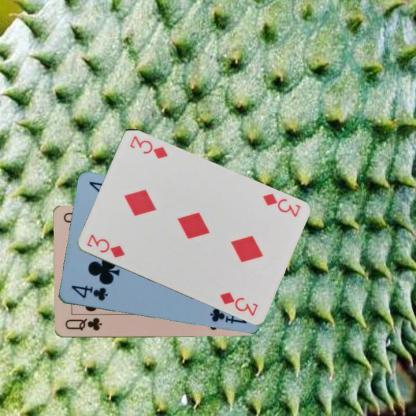3d: (260, 191, 302, 219), (84, 232, 126, 259)
4c: (68, 283, 109, 302)
Qc: (62, 316, 103, 332)
